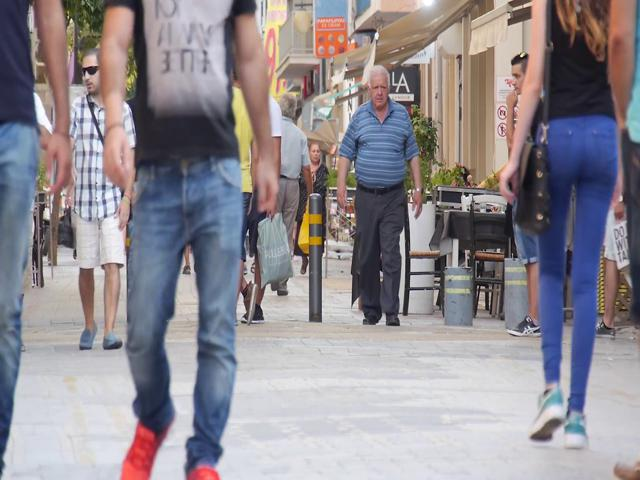shoe: (120, 422, 176, 479), (530, 389, 565, 440), (564, 412, 587, 448), (507, 316, 541, 336), (242, 283, 258, 325), (80, 322, 97, 349), (596, 319, 615, 339), (103, 333, 122, 349), (363, 310, 381, 324), (386, 312, 399, 326)
